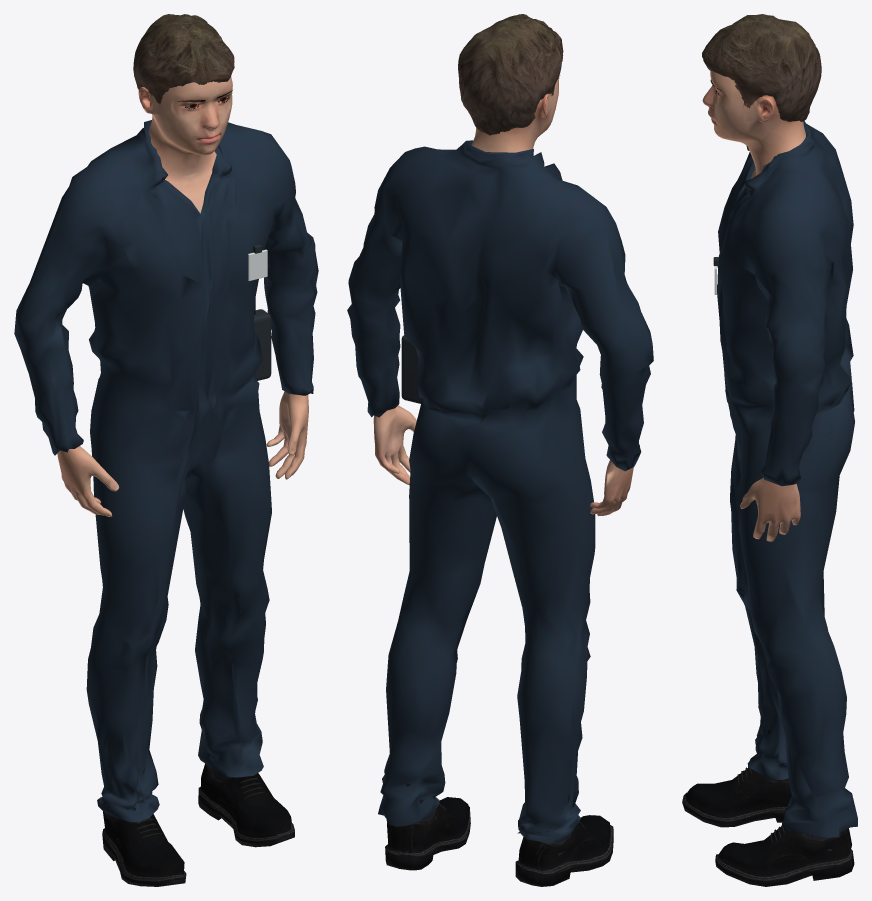
Rendered from security.glb.
3 views of the same model, side by side, from view 1: azimuth 30°, elevation 25°; view 2: azimuth 150°, elevation 25°; view 3: azimuth 270°, elevation 25° (orthographic). The views are drawn at different scales.
Visible parts, largest first — view 1: male_casualsuit01, Drew | anatomical body, shoes03, short02, Guard | unbranded belt radio; view 2: male_casualsuit01, short02, shoes03, Drew | anatomical body, Guard | unbranded belt radio; view 3: male_casualsuit01, shoes03, short02, Drew | anatomical body.
Boxes of the visible parts, x1=… form: male_casualsuit01: x1=14, y1=120, x2=318, y2=822; Drew | anatomical body: x1=57, y1=76, x2=308, y2=516; shoes03: x1=102, y1=763, x2=294, y2=886; short02: x1=133, y1=14, x2=234, y2=103; Guard | unbranded belt radio: x1=253, y1=309, x2=271, y2=380; male_casualsuit01: x1=347, y1=140, x2=653, y2=844; short02: x1=458, y1=14, x2=563, y2=135; shoes03: x1=385, y1=783, x2=613, y2=886; Drew | anatomical body: x1=373, y1=75, x2=633, y2=516; Guard | unbranded belt radio: x1=401, y1=335, x2=422, y2=403; male_casualsuit01: x1=717, y1=121, x2=857, y2=837; shoes03: x1=682, y1=730, x2=854, y2=886; short02: x1=702, y1=14, x2=821, y2=121; Drew | anatomical body: x1=702, y1=71, x2=805, y2=541.
Size of the model in its own units: 0.6748 by 1.81 by 0.3515.
Materials: 11 (11 with a texture image).
